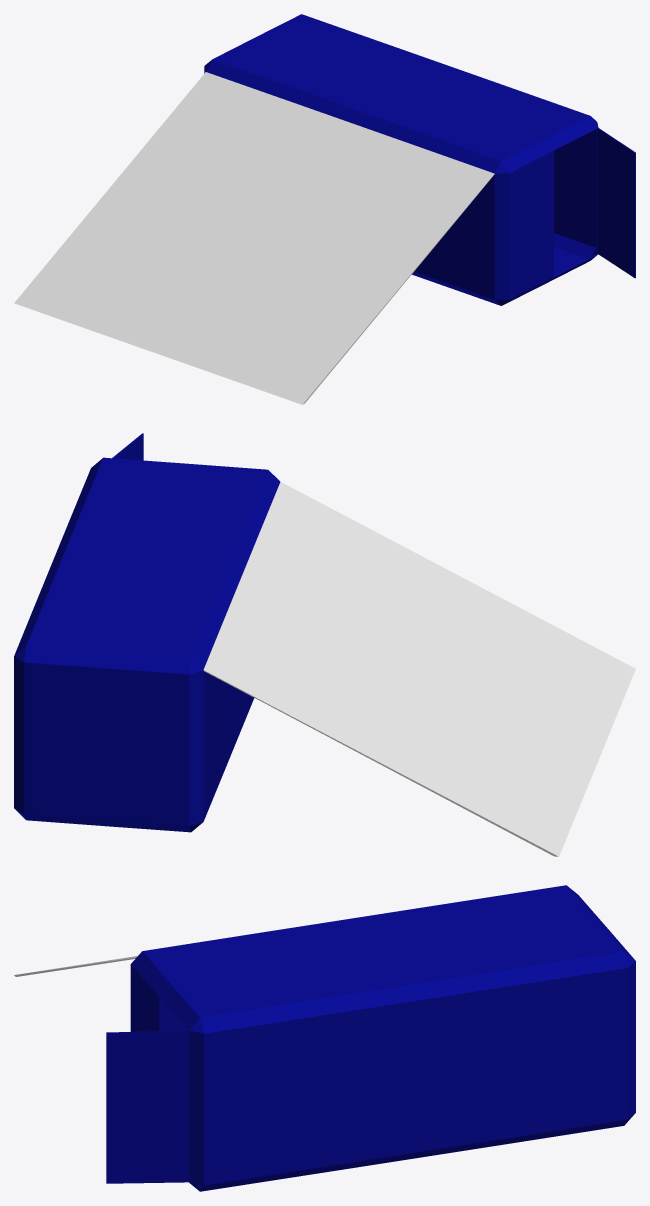
The model's file is Container 1.fbx.
3 renders of one model, top to bottom at view 1: azimuth 30°, elevation 25°; view 2: azimuth 150°, elevation 25°; view 3: azimuth 270°, elevation 25°, orthographic. The views are drawn at different scales.
Visible parts, largest first — view 1: Cube.580; view 2: Cube.580; view 3: Cube.580.
Part boxes in pixels (x1=…): Cube.580: x1=14, y1=14, x2=635, y2=404; Cube.580: x1=14, y1=433, x2=635, y2=856; Cube.580: x1=14, y1=885, x2=635, y2=1191.
Size of the model in its own units: 1422 by 406 by 1311.
